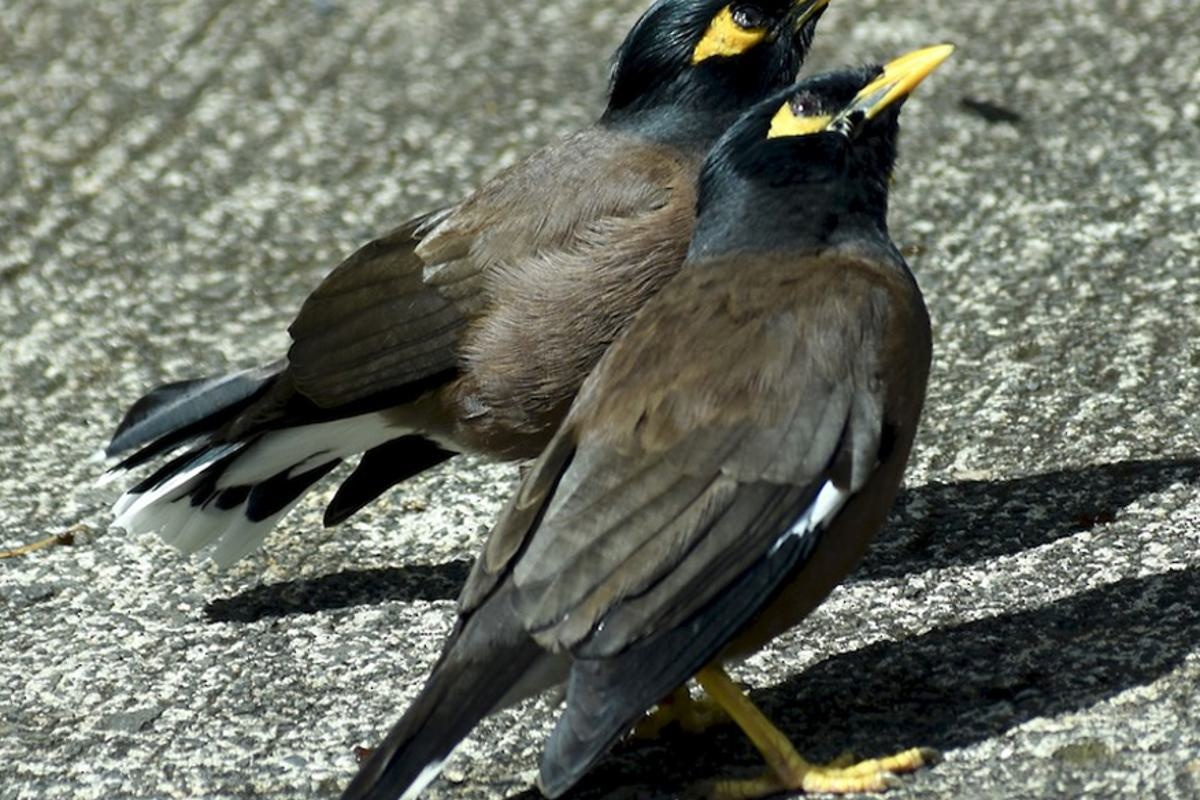myna: (463, 40, 995, 762), (267, 13, 851, 444)
